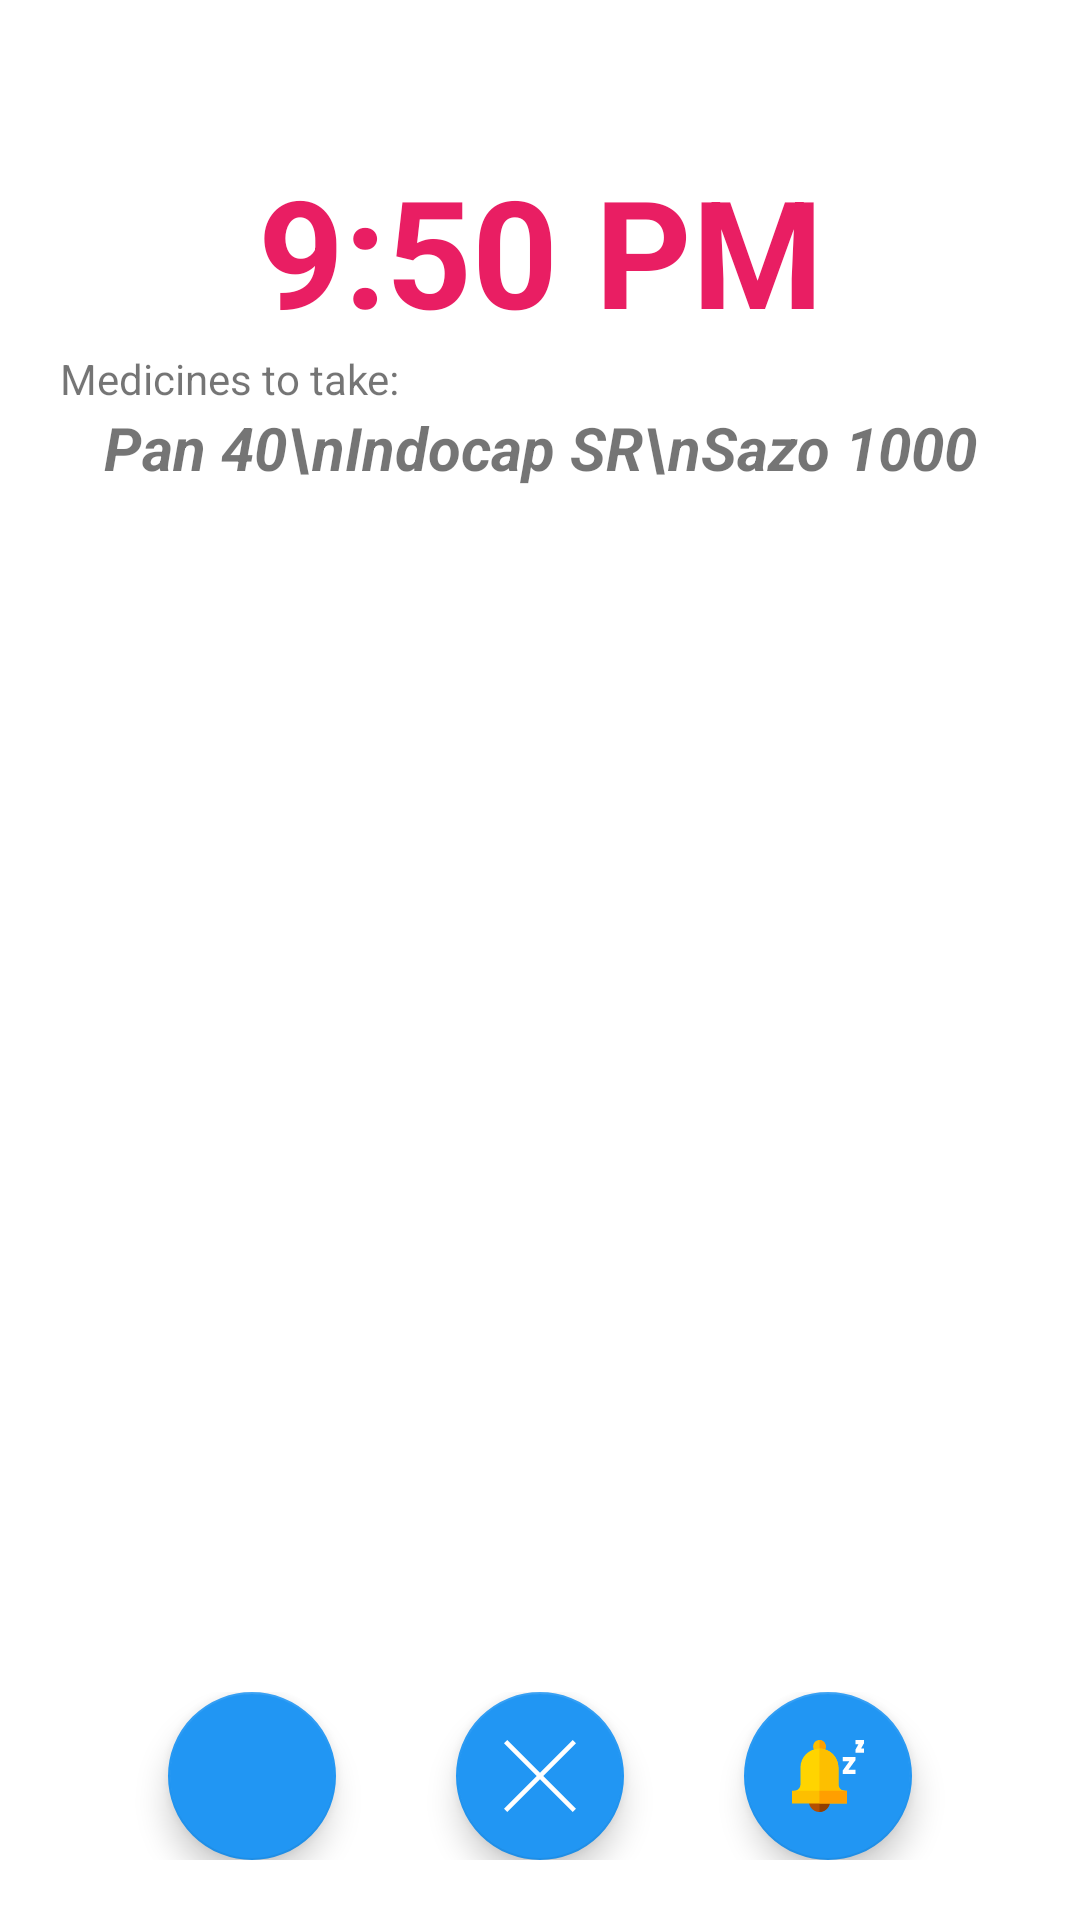

Icon click points for this 1080x1920 phone screenshot, format (x=x, y=y):
cross: (x=540, y=1776)
snooze: (x=828, y=1776)
